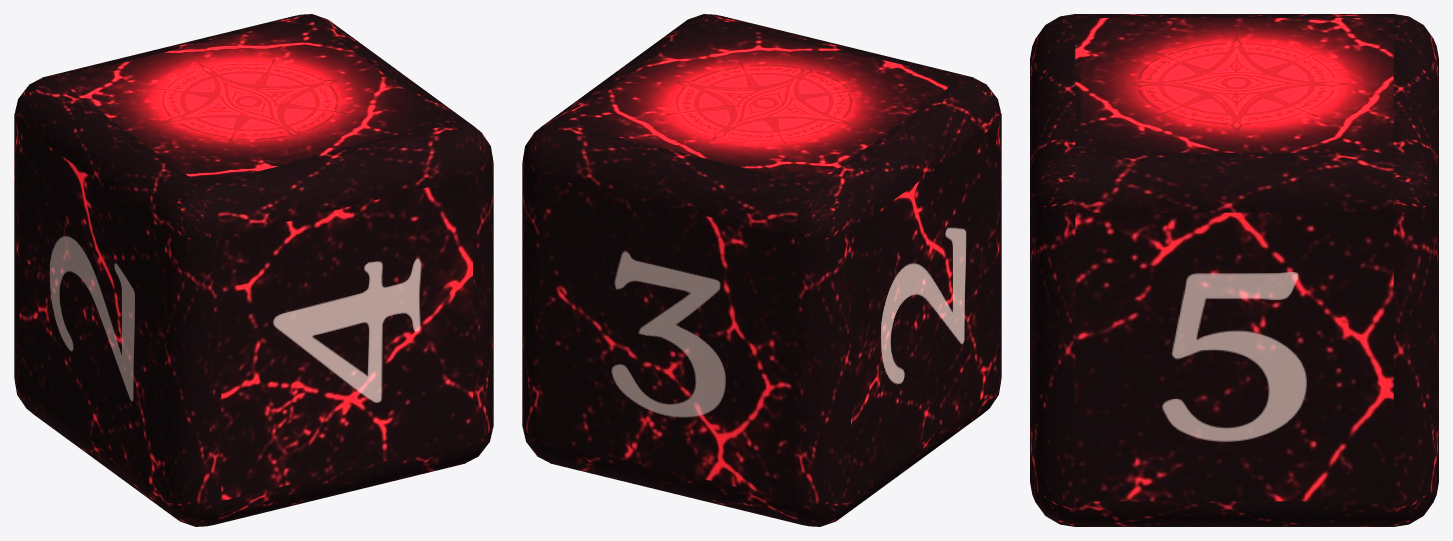
Rendered from d6_path_abyss.glb.
3 views of the same model, side by side, from view 1: azimuth 30°, elevation 25°; view 2: azimuth 150°, elevation 25°; view 3: azimuth 270°, elevation 25° (orthographic). The views are drawn at different scales.
Visible parts, largest first — view 1: d6; view 2: d6; view 3: d6.
Boxes of the visible parts, left/top/right/bottom form: d6: left=14, top=14, right=493, bottom=526; d6: left=522, top=14, right=1001, bottom=526; d6: left=1030, top=14, right=1438, bottom=526.
Bounding box in the file's own units: 104 × 104 × 104.
1 material, 1 textured.
